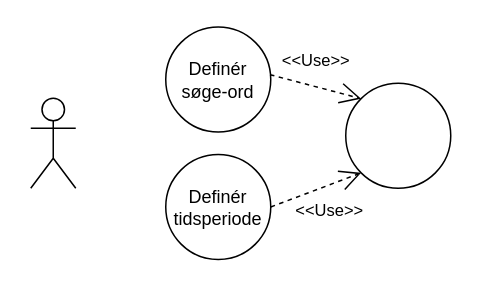
Some shapes in this 477 by 285 pixel diagram are drawn without their labels. Each missing label, with the centre of its shape:
Bruger: the point at 52,142
Search Set: the point at 397,135
